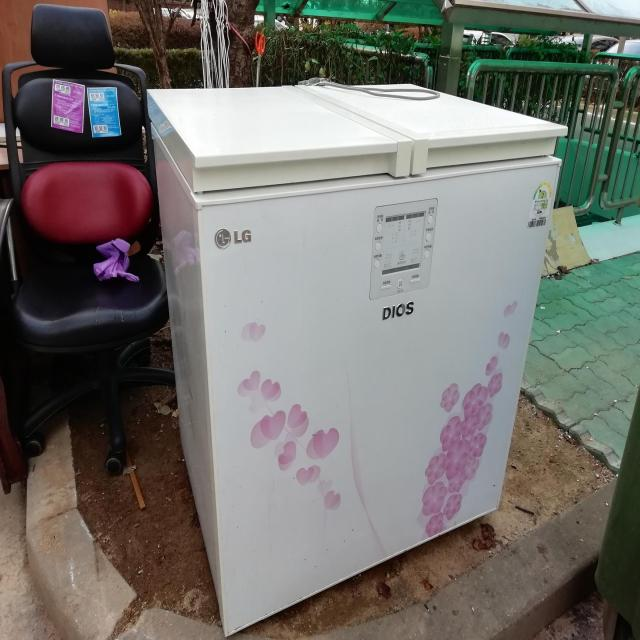refrigerator: (152, 80, 568, 622)
